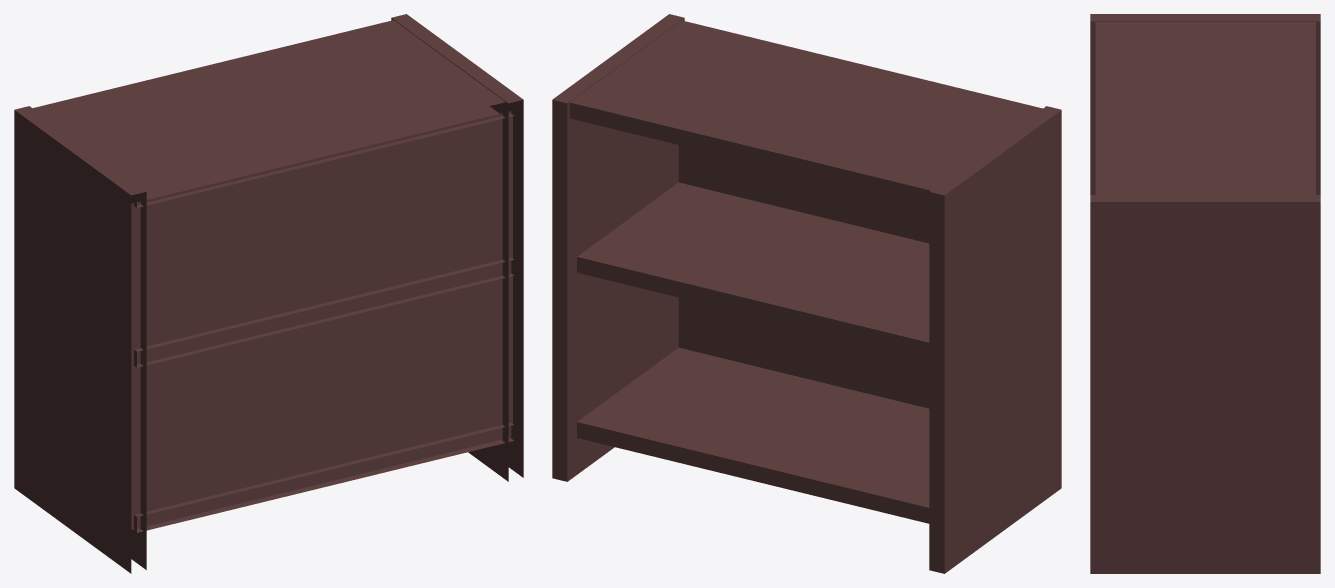
The model's file is shelves1.obj.
3 renders of one model, left to right at view 1: azimuth 30°, elevation 25°; view 2: azimuth 150°, elevation 25°; view 3: azimuth 270°, elevation 25°, orthographic.
Parts seen in each view (by area): view 1: shelves1; view 2: shelves1; view 3: shelves1.
Part boxes in pixels (<box>): shelves1: <box>14,14,523,573</box>; shelves1: <box>552,14,1061,573</box>; shelves1: <box>1090,14,1320,573</box>.
Size of the model in its own units: 0.8572 by 0.7901 by 0.4432.
